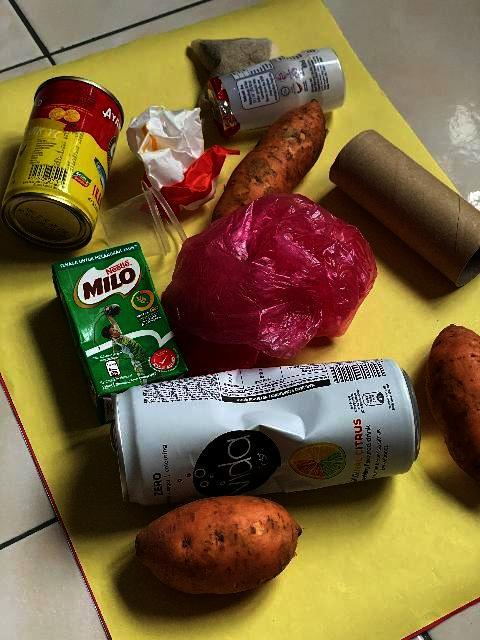drinkcan: (110, 358, 422, 510)
drinkpack: (50, 241, 188, 425)
foodcan: (0, 76, 126, 254)
paperbag: (127, 105, 241, 219)
plasticbag: (159, 192, 379, 380)
plasticbottle: (206, 46, 346, 140)
plasticcontainer: (96, 180, 190, 260)
sweetpotato: (133, 494, 307, 596), (209, 99, 329, 234), (424, 322, 480, 488)
teabag: (189, 36, 277, 112)
tissueroll: (328, 129, 480, 289)
